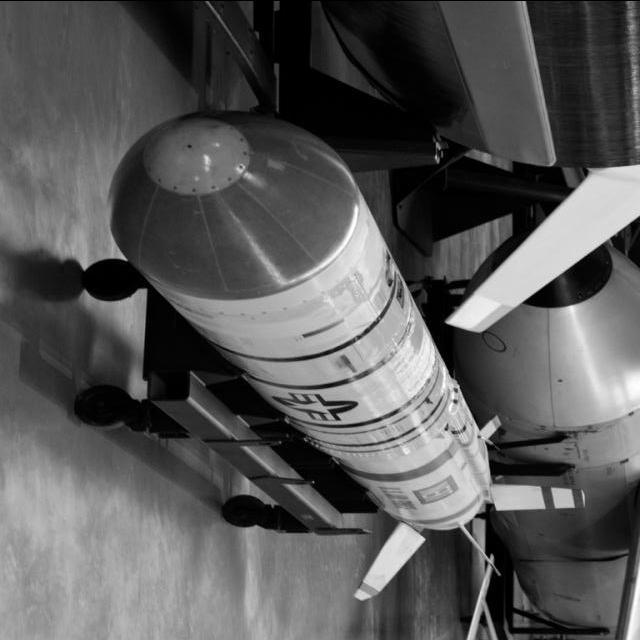missile: (82, 72, 512, 574)
